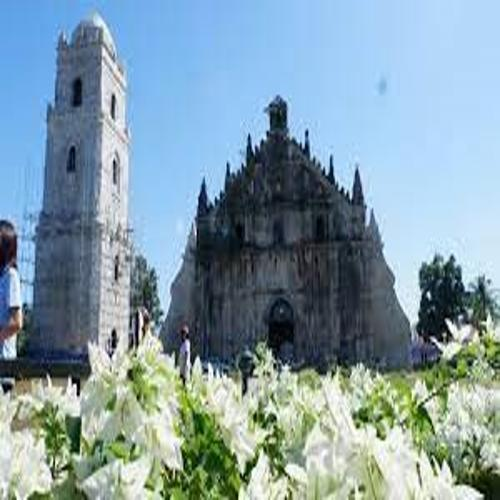Paoay Church: (37, 4, 424, 375)
